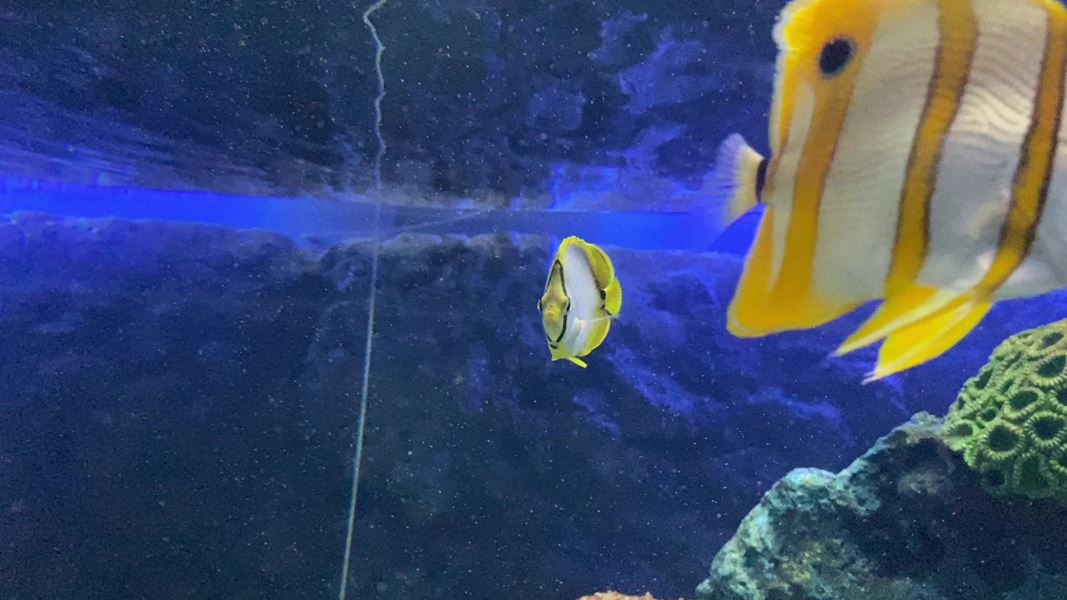Black-backed butterflyfish: (528, 227, 648, 379)
